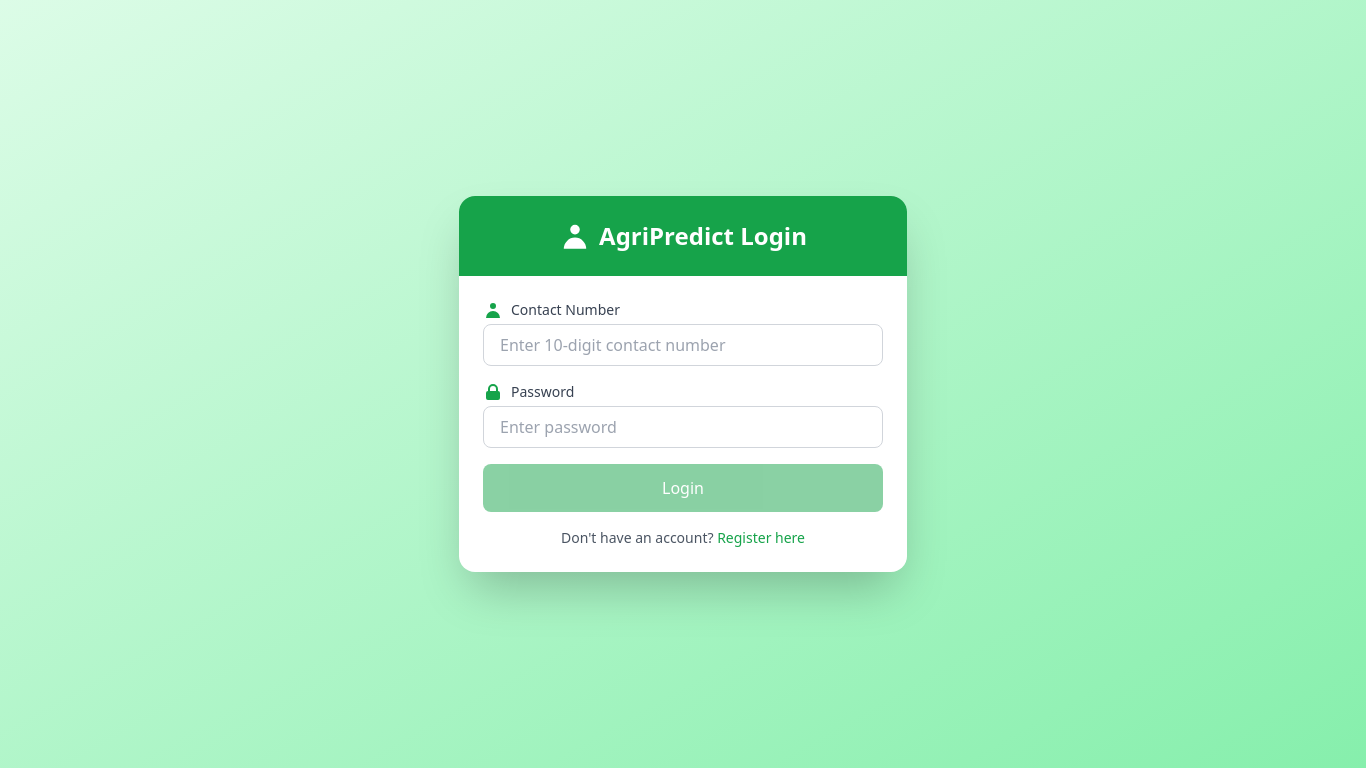
Test: Login Component › validates password field correctly
Type "short" into the password field with placeholder "Enter password" at (683, 427), box [483,406,883,448]
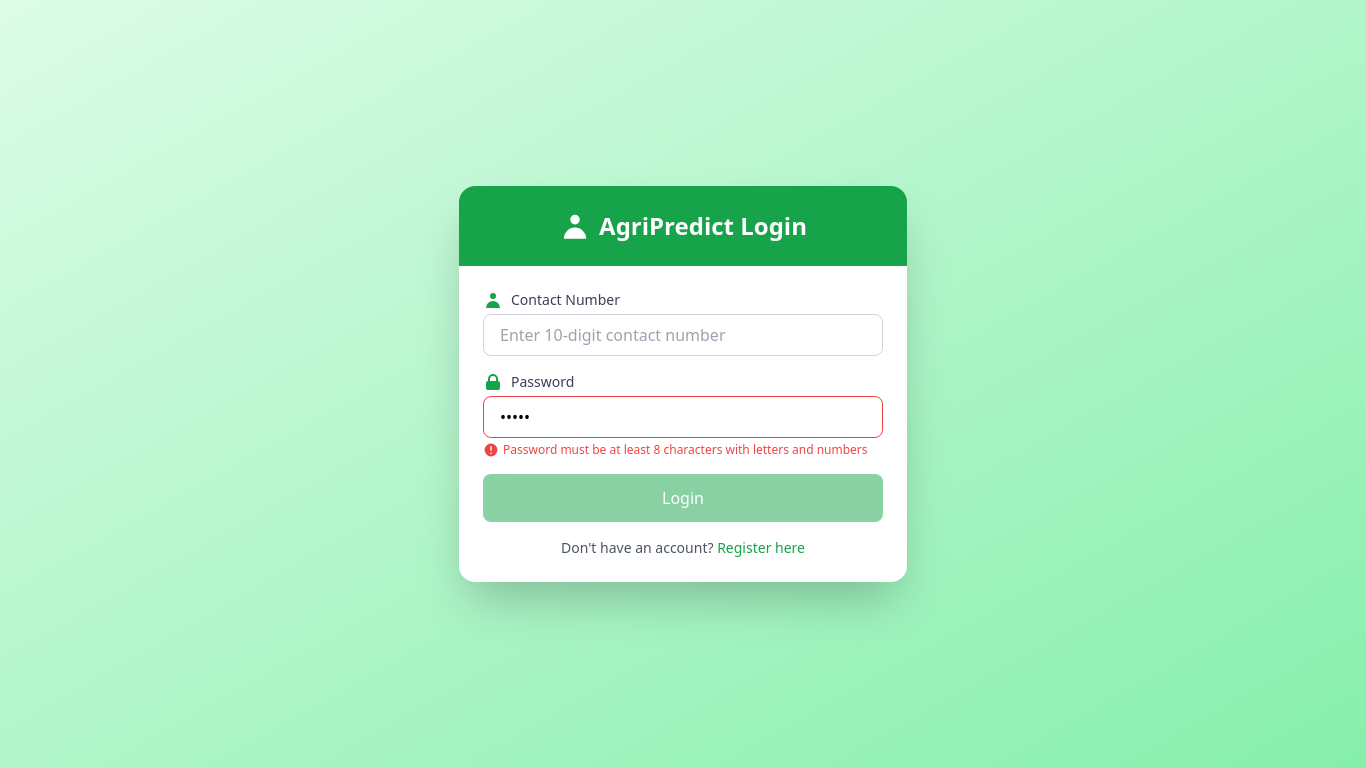
Check: the text "Password must be at least 8 characters" is shown, box [503,441,868,458]
Type "Strong123" into the password field with placeholder "Enter password" at (683, 417), box [483,396,883,438]
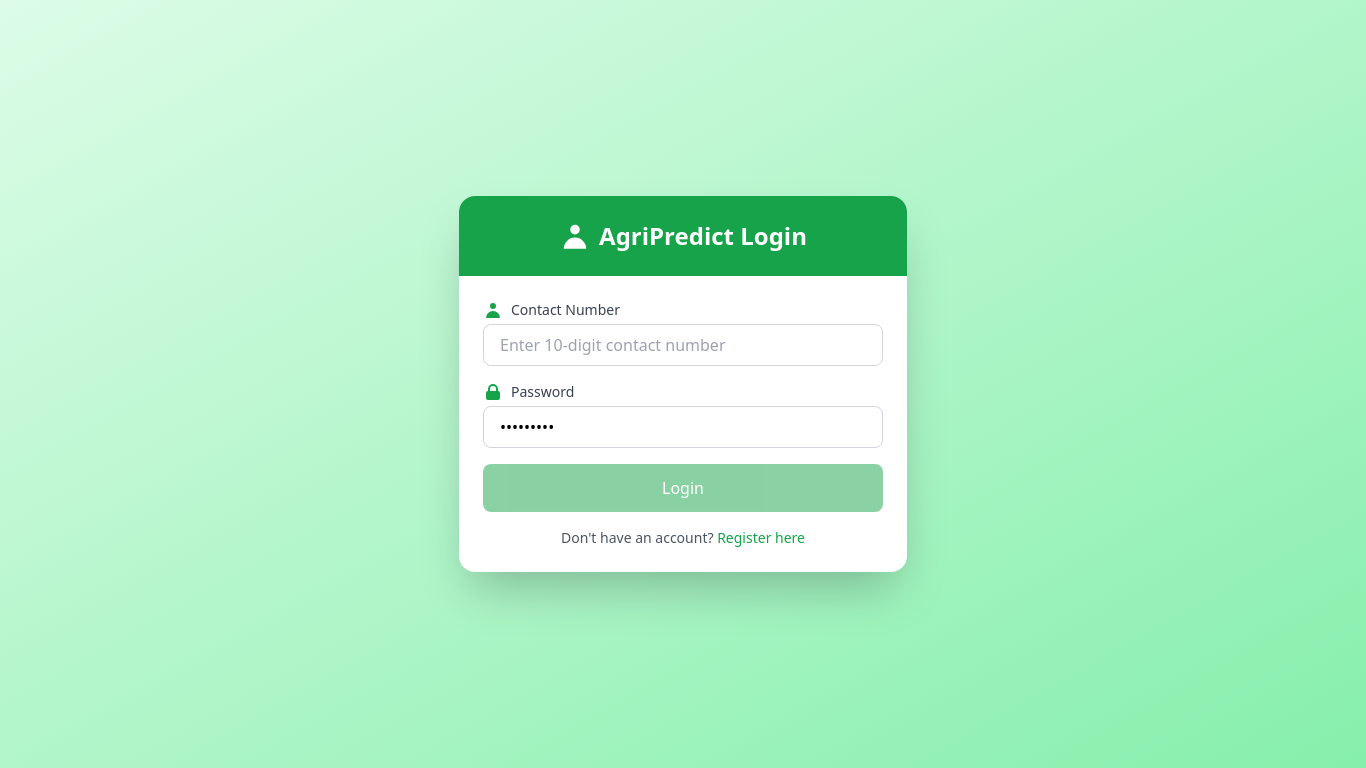
Check: the text "Password must be at least 8 characters" is gone
